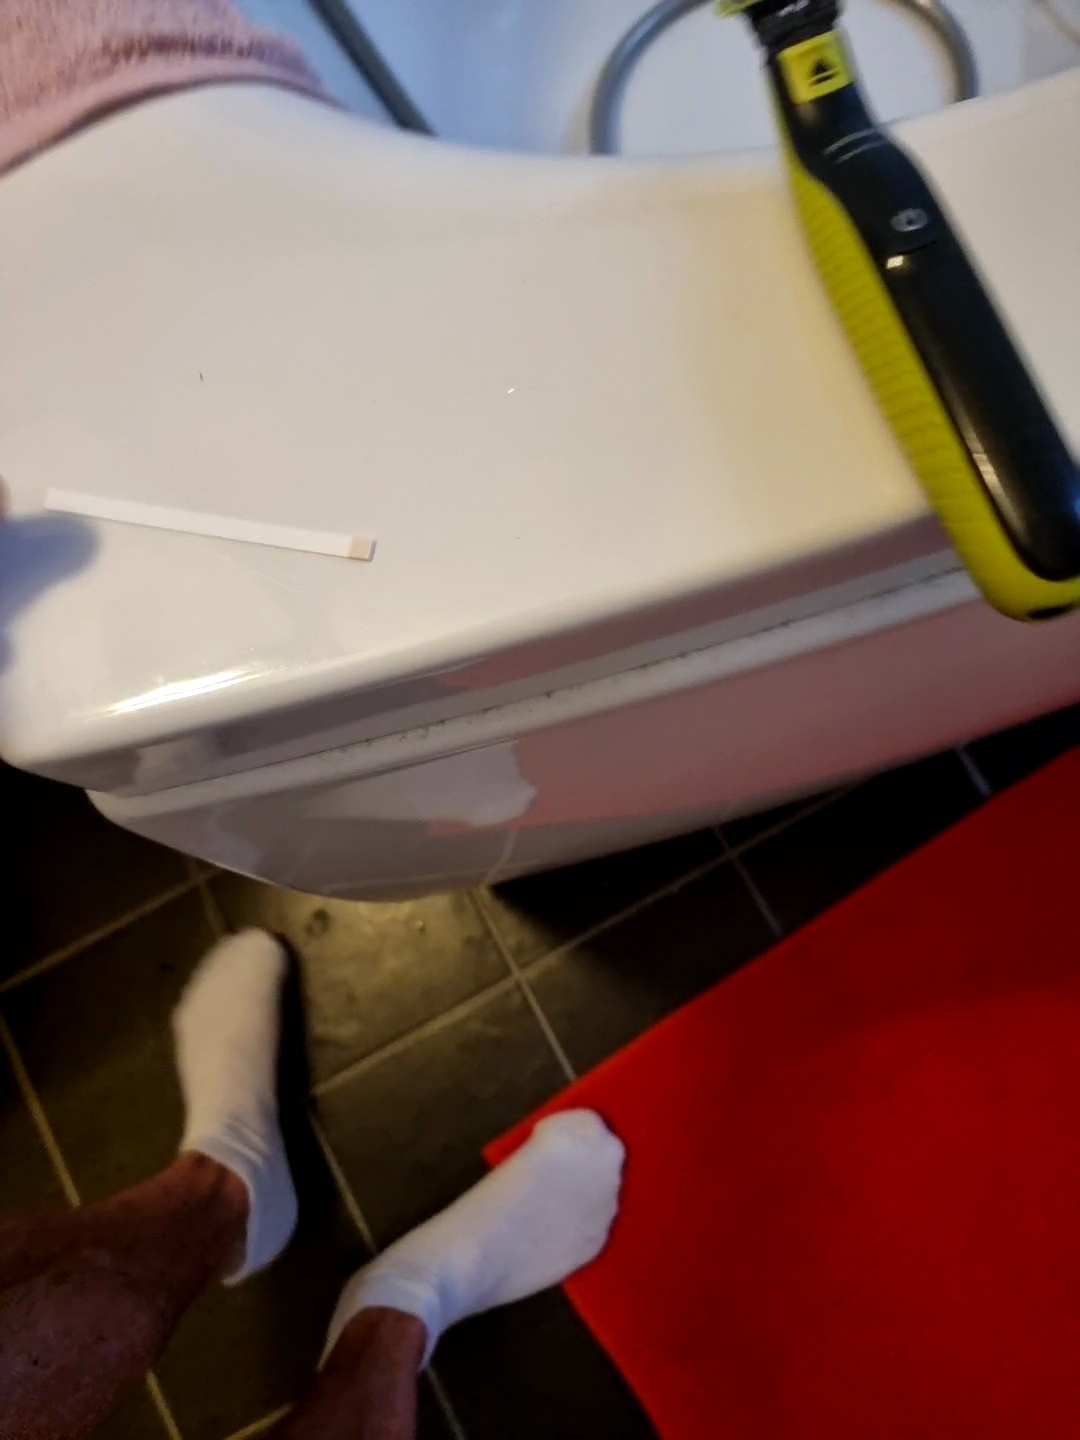keto-tip: (341, 530, 382, 568)
